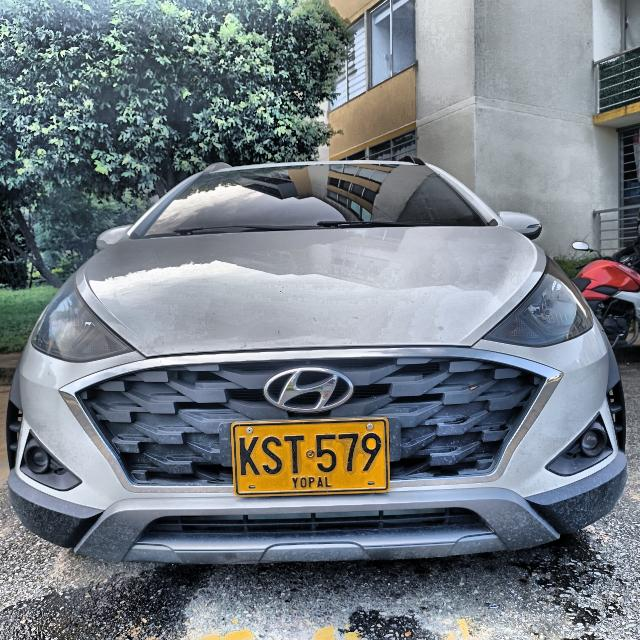plate: (233, 423, 388, 492)
